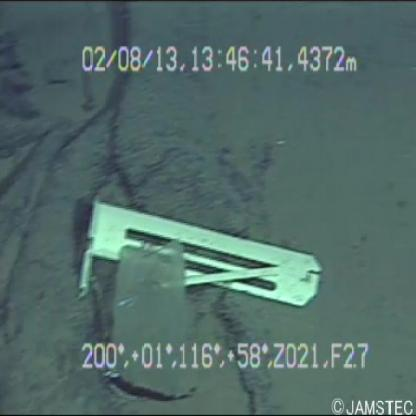Rác: (39, 186, 341, 328)
